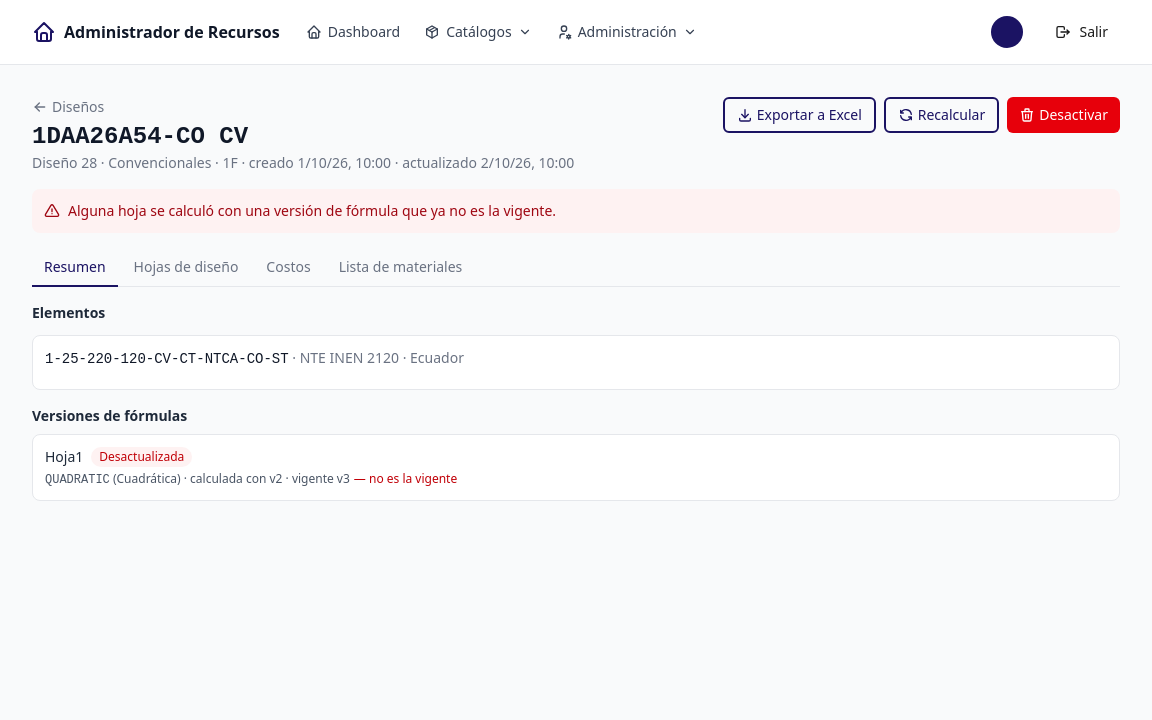
Scenario: detalle de un diseño › recalcular solo se aplica después de simular
Click the button "Recalcular": (942, 115) left=884, top=97, right=999, bottom=133
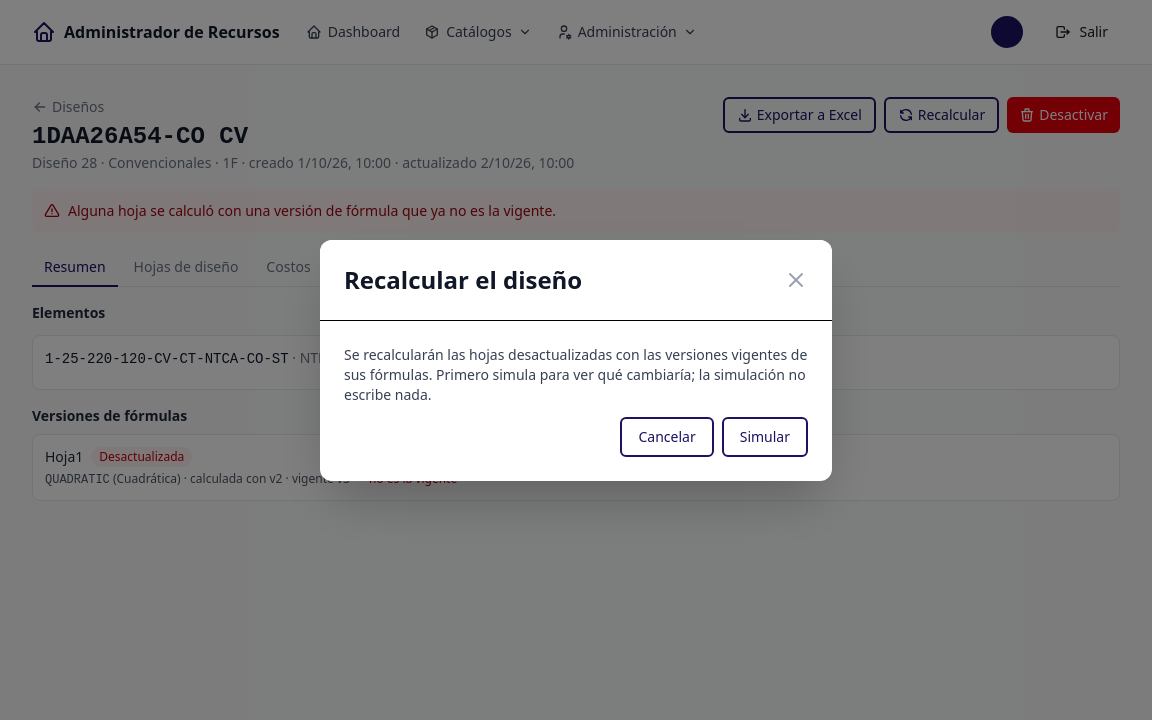
Expected: the button "Aplicar" is not shown
Click the button "Simular": (765, 436) left=722, top=416, right=808, bottom=456
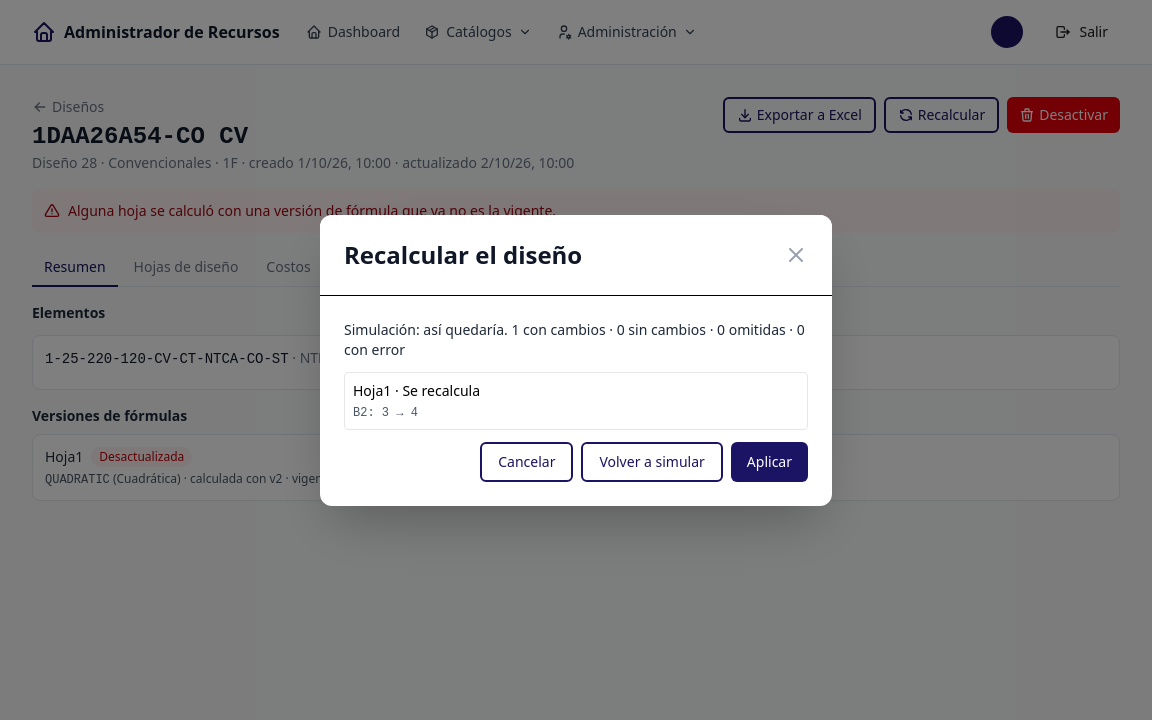
Expected: the list item "B2: 3 → 4" is shown, left=353, top=406, right=418, bottom=420
Click the button "Aplicar": (769, 462) left=731, top=442, right=808, bottom=482
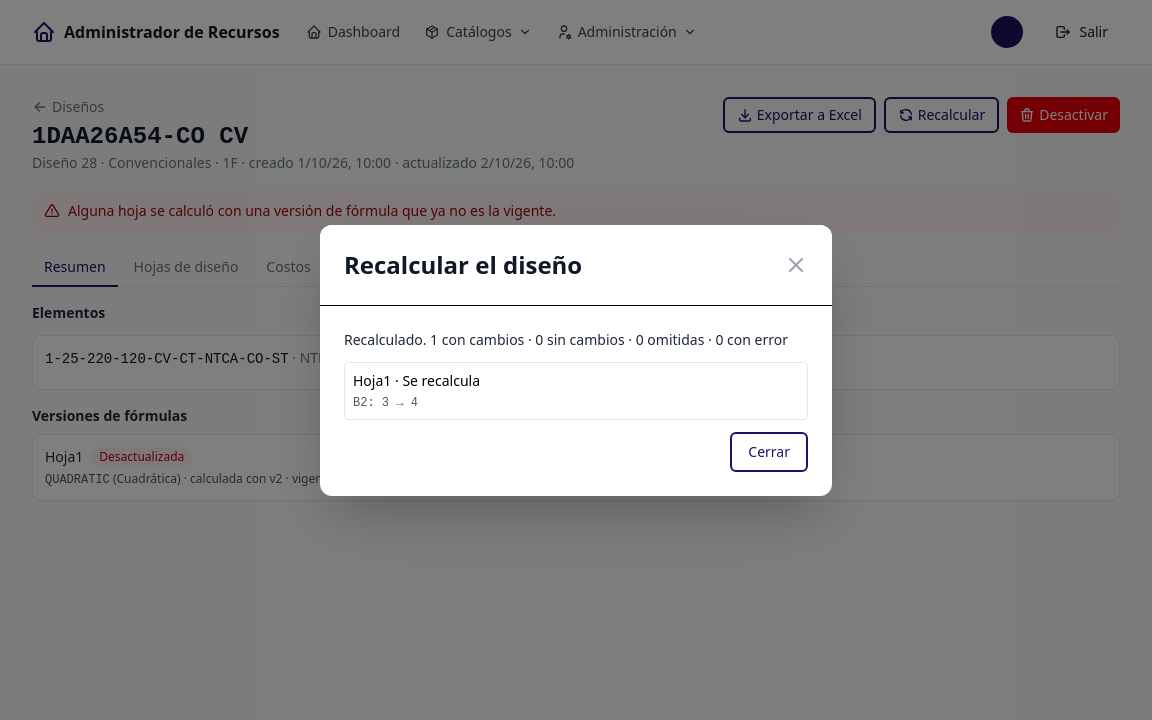
Expected: the text "Recalculado." is shown, left=344, top=330, right=426, bottom=348
